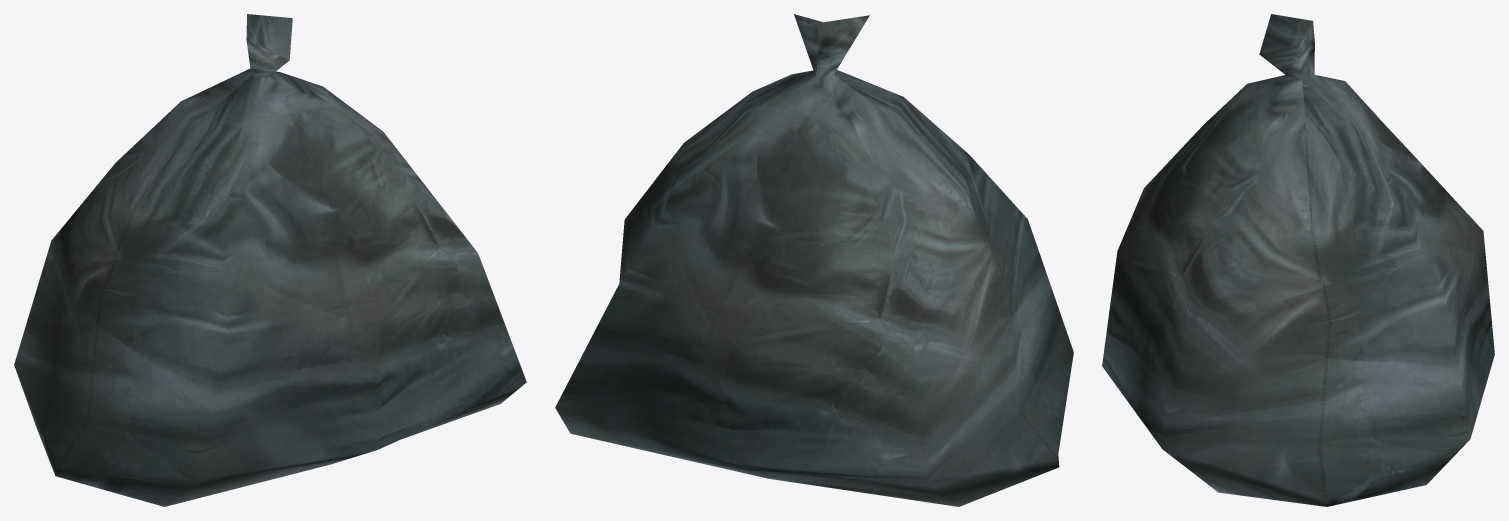
File: M_Home_Garden_garbage4.fbx
3 renders of one model, left to right at view 1: azimuth 30°, elevation 25°; view 2: azimuth 150°, elevation 25°; view 3: azimuth 270°, elevation 25°, orthographic. The views are drawn at different scales.
Parts seen in each view (by area): view 1: M_Home_Garden_garbage4; view 2: M_Home_Garden_garbage4; view 3: M_Home_Garden_garbage4.
Part boxes in pixels (bbox=[...]): M_Home_Garden_garbage4: bbox=[14, 14, 526, 506]; M_Home_Garden_garbage4: bbox=[555, 14, 1073, 506]; M_Home_Garden_garbage4: bbox=[1102, 14, 1494, 506].
Bounding box in the file's own units: 90.46 × 77.95 × 73.32.
